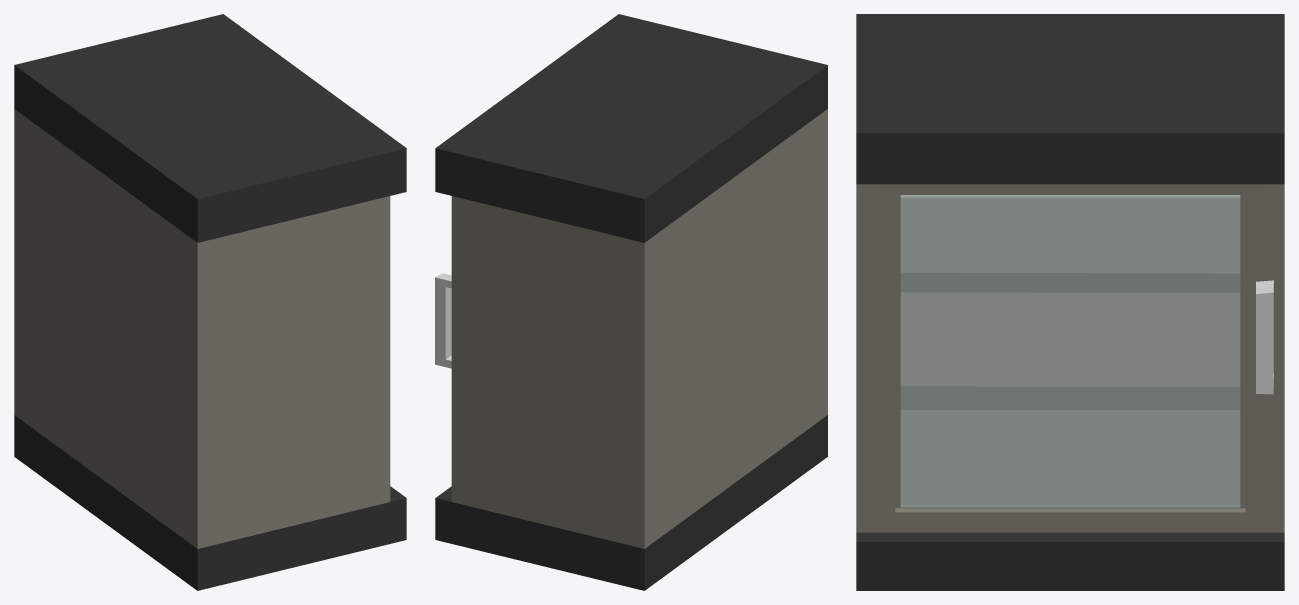
File: S.WallFridge.fbx
3 views of the same model, side by side, from view 1: azimuth 30°, elevation 25°; view 2: azimuth 150°, elevation 25°; view 3: azimuth 270°, elevation 25° (orthographic). The views are drawn at different scales.
Visible parts, largest first — view 1: Wall Fridge; view 2: Wall Fridge; view 3: Wall Fridge.
Boxes of the visible parts, bbox=[...] form: Wall Fridge: bbox=[14, 14, 406, 590]; Wall Fridge: bbox=[435, 14, 827, 590]; Wall Fridge: bbox=[856, 14, 1284, 590].
Size of the model in its own units: 179 by 312 by 265.
